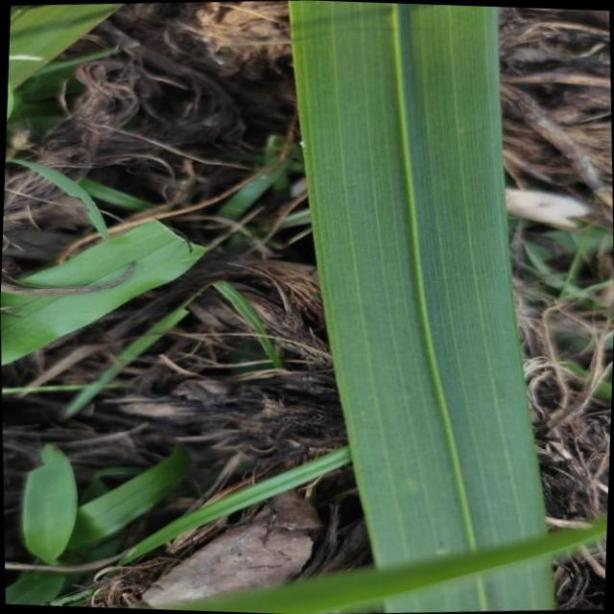Healthy: (288, 1, 558, 614)
